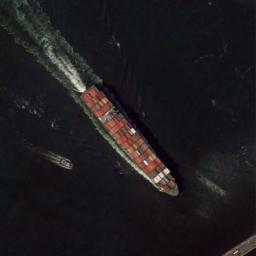boat: (77, 83, 180, 197), (58, 156, 76, 170)
